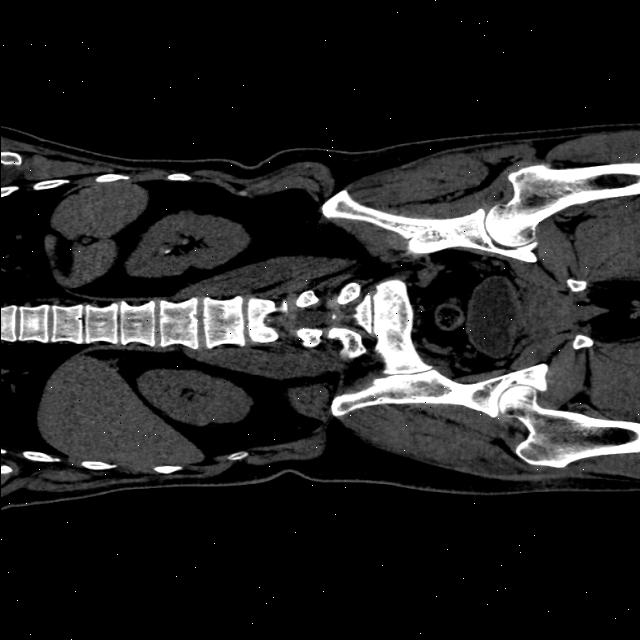kidneystone: (158, 246, 171, 255)
